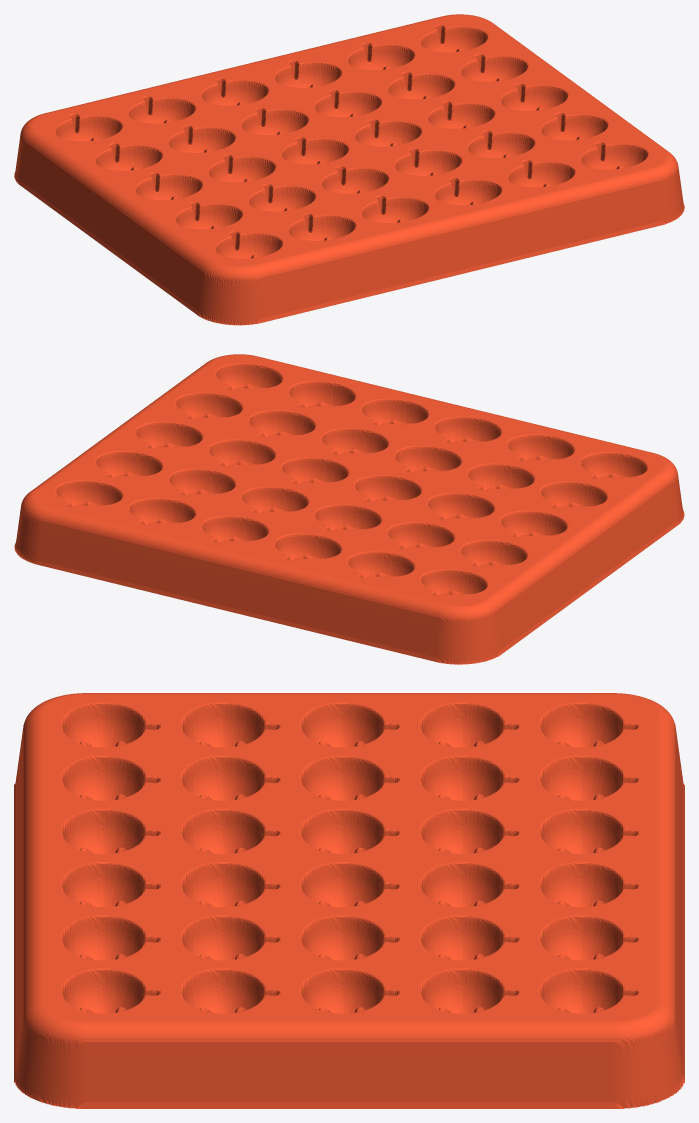
File: mold.glb
3 renders of one model, top to bottom at view 1: azimuth 30°, elevation 25°; view 2: azimuth 150°, elevation 25°; view 3: azimuth 270°, elevation 25°, orthographic. The views are drawn at different scales.
Visible parts, largest first — view 1: geometry_0; view 2: geometry_0; view 3: geometry_0.
Part boxes in pixels (left/top/right/bottom): geometry_0: left=14, top=14, right=684, bottom=325; geometry_0: left=14, top=354, right=684, bottom=664; geometry_0: left=14, top=693, right=684, bottom=1108.
Bounding box in the file's own units: 0.104 × 0.0105 × 0.0842.
